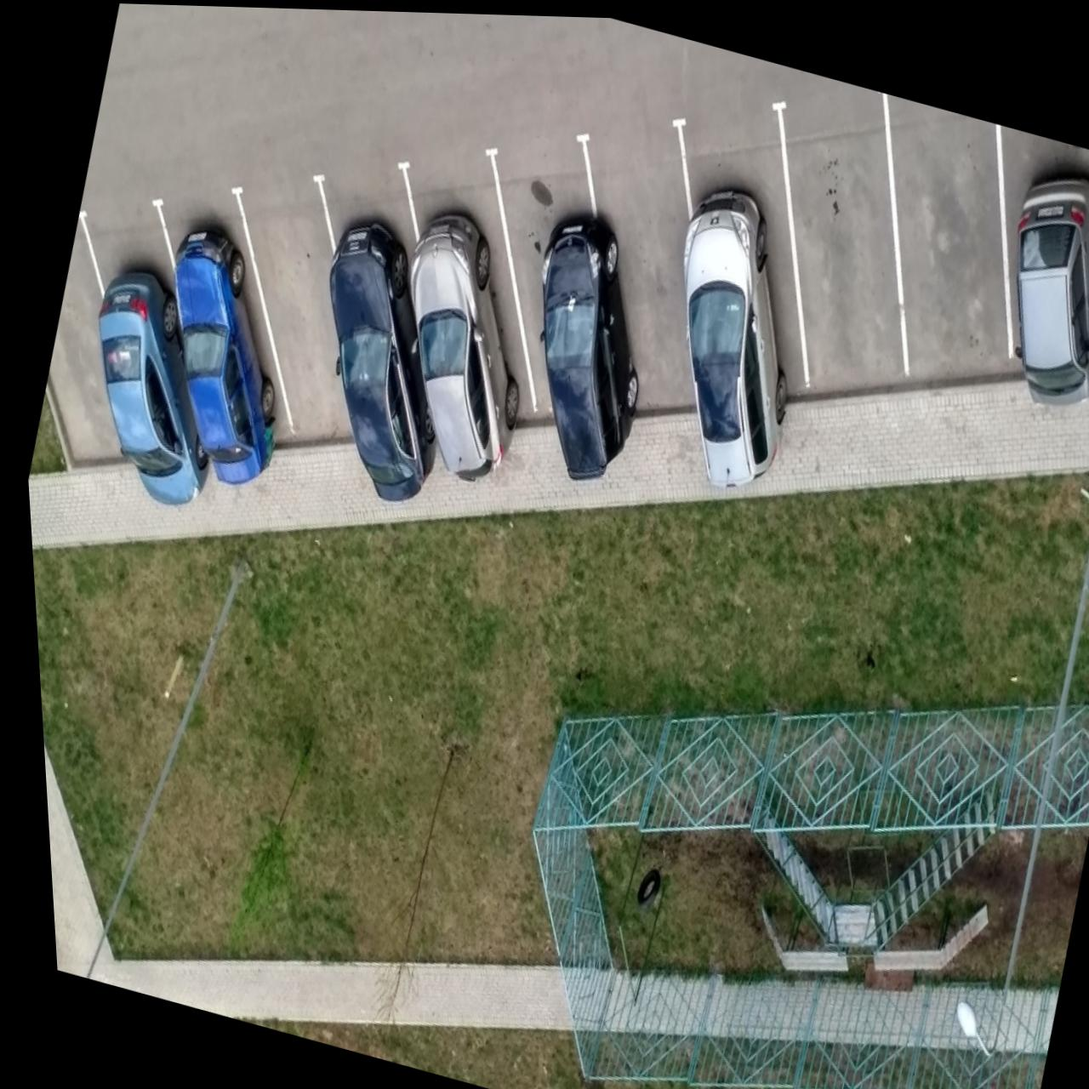cars: (413, 95, 697, 476), (259, 81, 506, 498), (525, 86, 780, 459), (628, 110, 852, 471), (354, 134, 580, 478), (116, 170, 345, 502), (53, 205, 269, 517), (961, 128, 1089, 379)
empty: (174, 111, 420, 489), (740, 89, 963, 415), (845, 99, 1047, 396), (13, 225, 184, 519)
